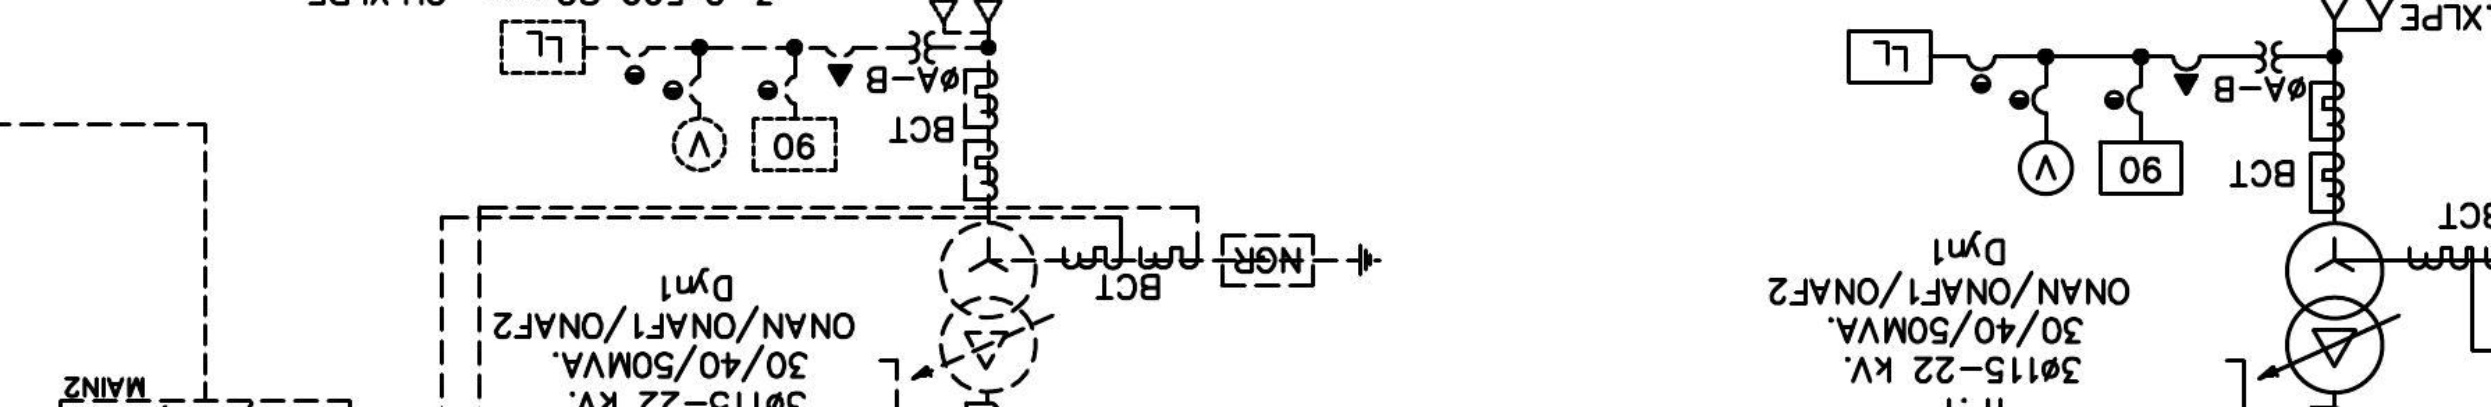11522_tx_dyn1: (2284, 219, 2386, 396)
LL: (1844, 29, 1935, 86)
v_m: (2016, 138, 2076, 197)
